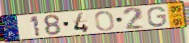1: (30, 15, 43, 37)
2: (122, 7, 147, 32)
4: (73, 12, 90, 34)
8: (42, 14, 62, 37)
G: (146, 6, 168, 28)
O: (94, 10, 116, 32)
